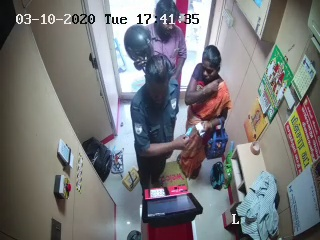helmet: (124, 23, 154, 61)
